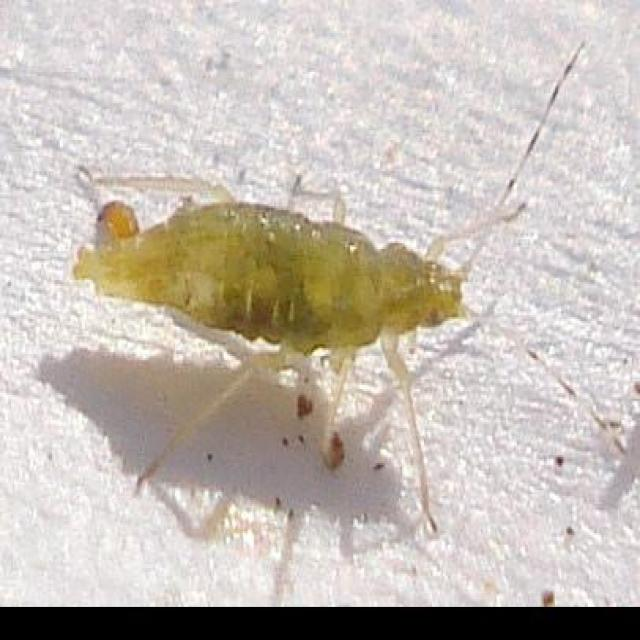Aphids: (41, 111, 561, 525)
